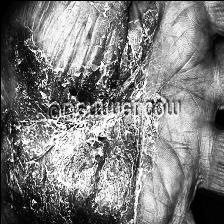Non-Cancerous Skin Condition: (0, 4, 158, 224)
